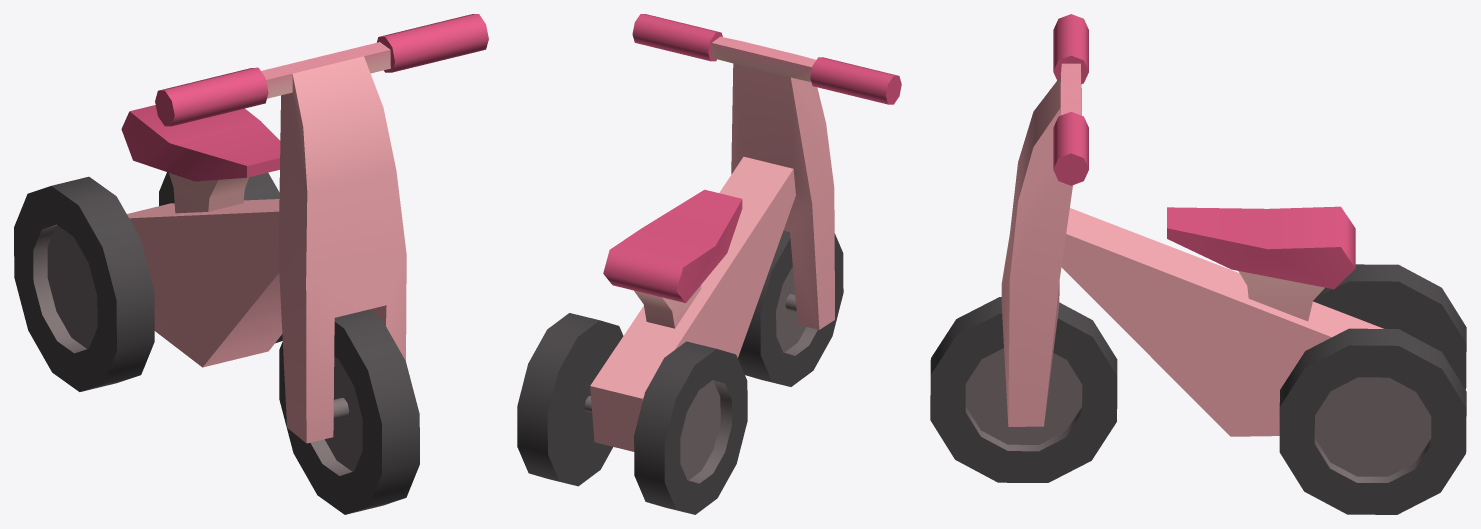
Rendered from SM_Kid_Push_Bicycle_03.fbx.
3 renders of one model, left to right at view 1: azimuth 30°, elevation 25°; view 2: azimuth 150°, elevation 25°; view 3: azimuth 270°, elevation 25°, orthographic. The views are drawn at different scales.
Visible parts, largest first — view 1: SM_Kid_Push_Bicycle_03; view 2: SM_Kid_Push_Bicycle_03; view 3: SM_Kid_Push_Bicycle_03.
Part boxes in pixels (x1,y1,x2,y2): SM_Kid_Push_Bicycle_03: (14,14,488,514); SM_Kid_Push_Bicycle_03: (517,14,901,514); SM_Kid_Push_Bicycle_03: (930,14,1466,514).
Bounding box in the file's own units: 49.61 × 64.8 × 80.67.
